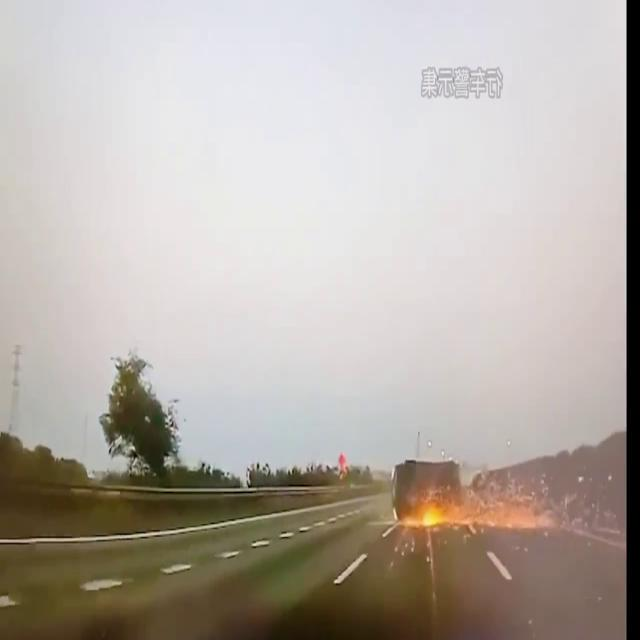accident: (393, 458, 463, 528)
